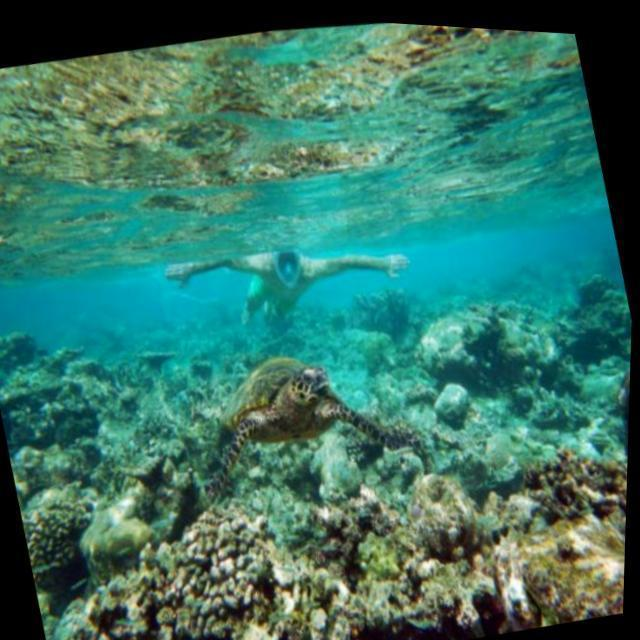Dead Coral: (83, 469, 632, 640)
